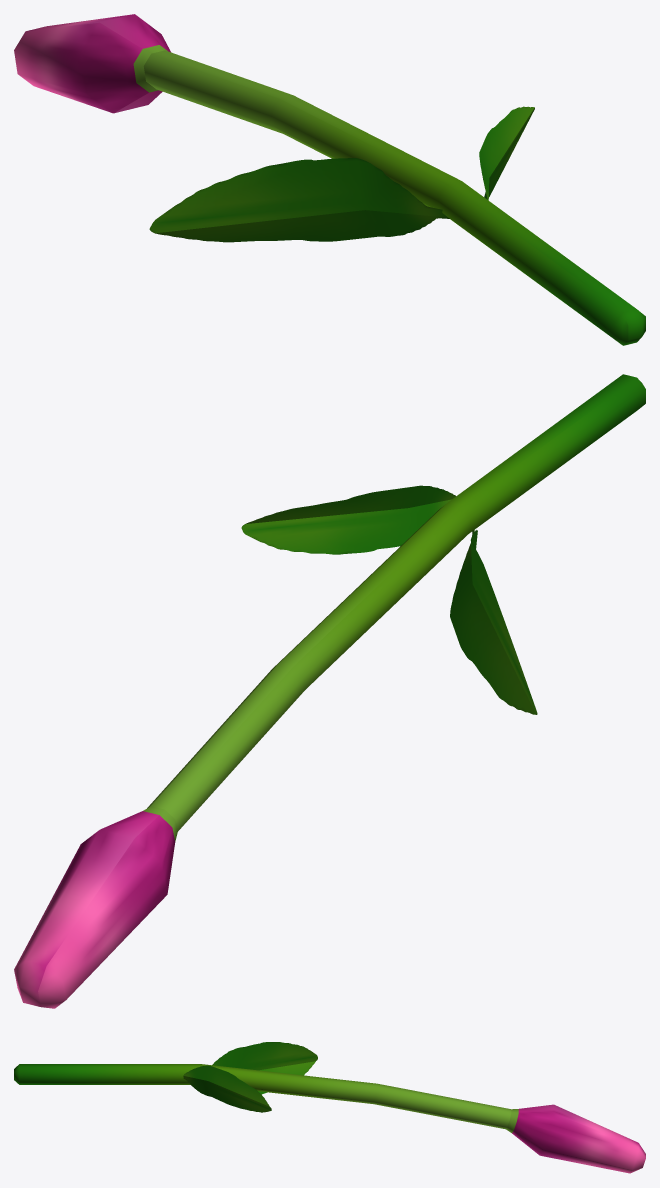
File: SM_Lilly_Pink_Closed.fbx
3 views of the same model, one above another, from view 1: azimuth 30°, elevation 25°; view 2: azimuth 150°, elevation 25°; view 3: azimuth 270°, elevation 25° (orthographic). The views are drawn at different scales.
Parts seen in each view (by area): view 1: Lilly_Pink_Closed; view 2: Lilly_Pink_Closed; view 3: Lilly_Pink_Closed.
Boxes of the visible parts, left/top/right/bottom form: Lilly_Pink_Closed: left=14, top=14, right=645, bottom=345; Lilly_Pink_Closed: left=14, top=374, right=645, bottom=1008; Lilly_Pink_Closed: left=14, top=1042, right=645, bottom=1173.
Bounding box in the file's own units: 22.72 × 13.99 × 66.1.
